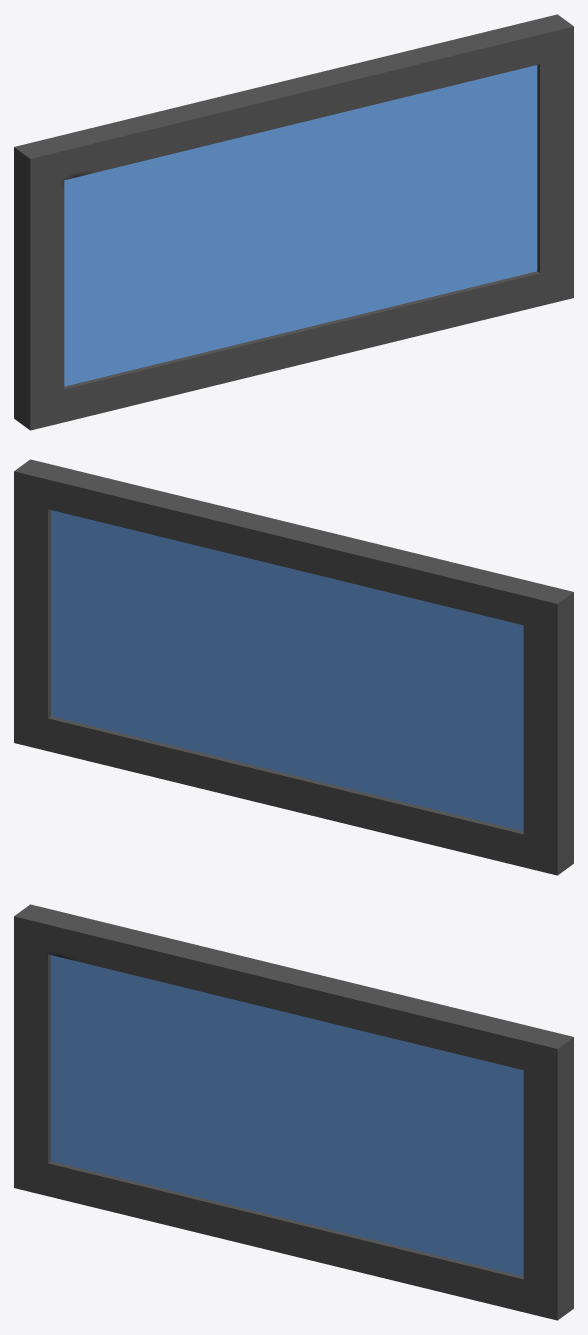
Rendered from corcho.fbx.
3 renders of one model, top to bottom at view 1: azimuth 30°, elevation 25°; view 2: azimuth 150°, elevation 25°; view 3: azimuth 330°, elevation 25°, orthographic.
Visible parts, largest first — view 1: venatana; view 2: venatana; view 3: venatana.
Boxes of the visible parts, x1=… form: venatana: x1=14, y1=14, x2=573, y2=430; venatana: x1=14, y1=459, x2=573, y2=875; venatana: x1=14, y1=904, x2=573, y2=1320.
Size of the model in its own units: 200 by 95.5 by 10.46.
Materials: 1 (1 with a texture image).
